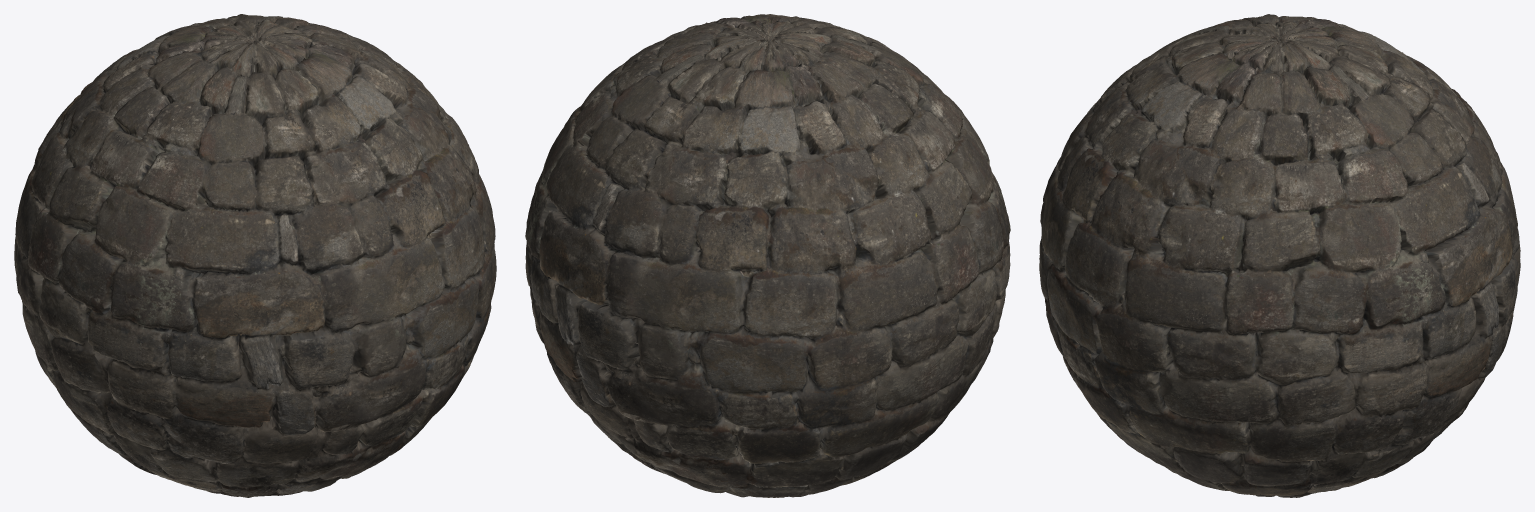
File: rock_wall_08_1k.gltf
3 renders of one model, left to right at view 1: azimuth 30°, elevation 25°; view 2: azimuth 150°, elevation 25°; view 3: azimuth 270°, elevation 25°, orthographic.
Parts seen in each view (by area): view 1: sphere_gltf; view 2: sphere_gltf; view 3: sphere_gltf.
Part boxes in pixels (<box>): sphere_gltf: <box>14,14,496,497</box>; sphere_gltf: <box>525,14,1010,497</box>; sphere_gltf: <box>1039,14,1520,497</box>.
Bounding box in the file's own units: 1.87 × 1.88 × 1.87.
